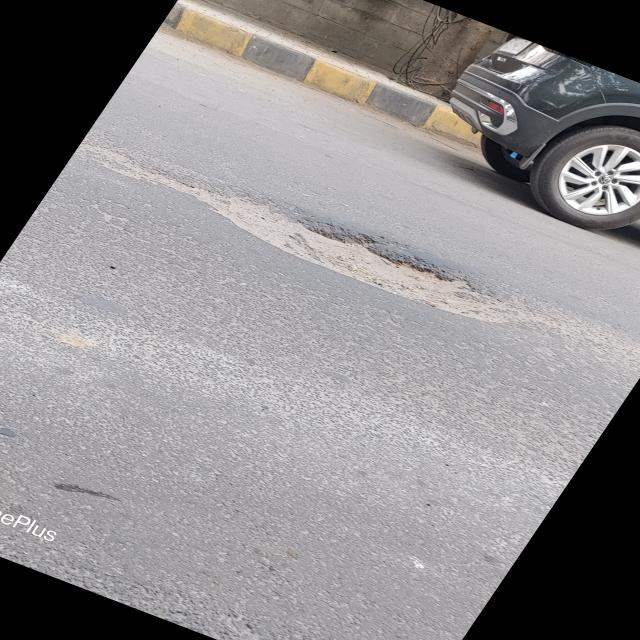potholes: (82, 144, 521, 321)
